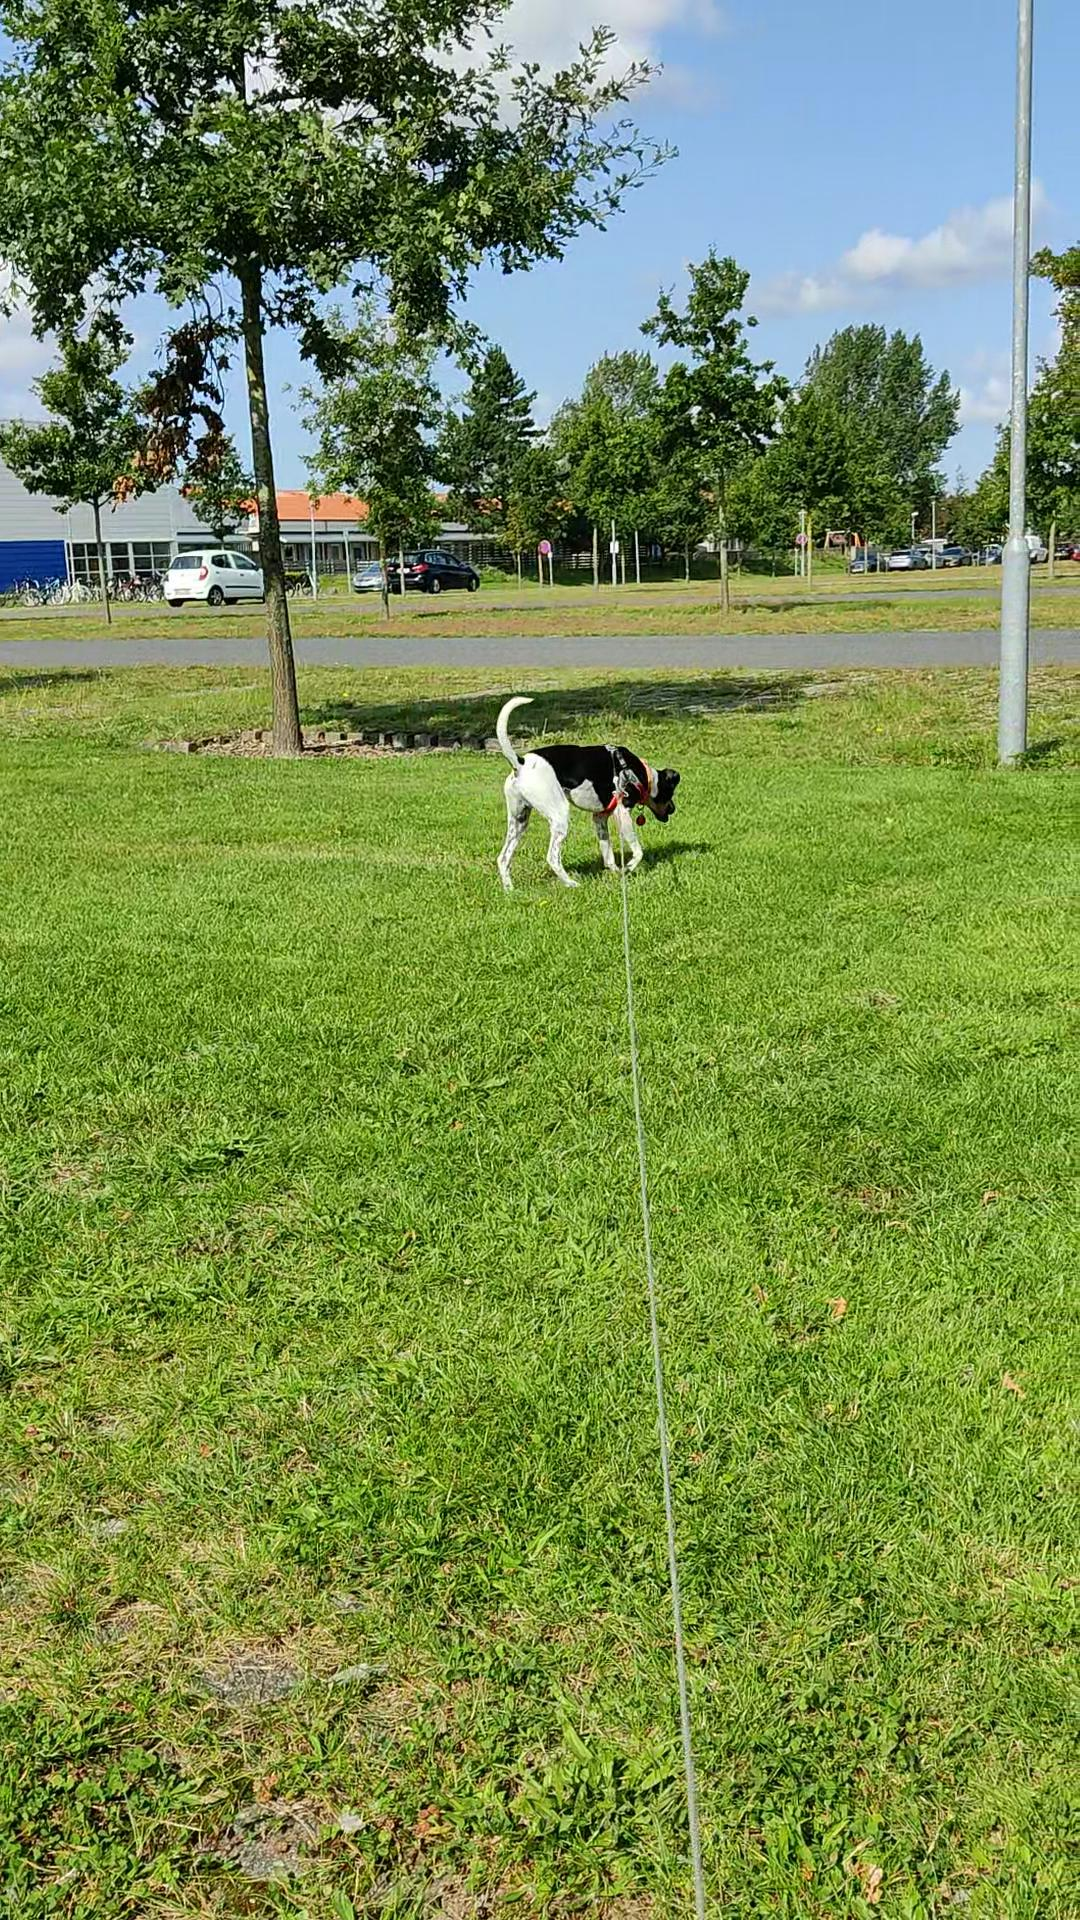Dog: (483, 684, 686, 894)
